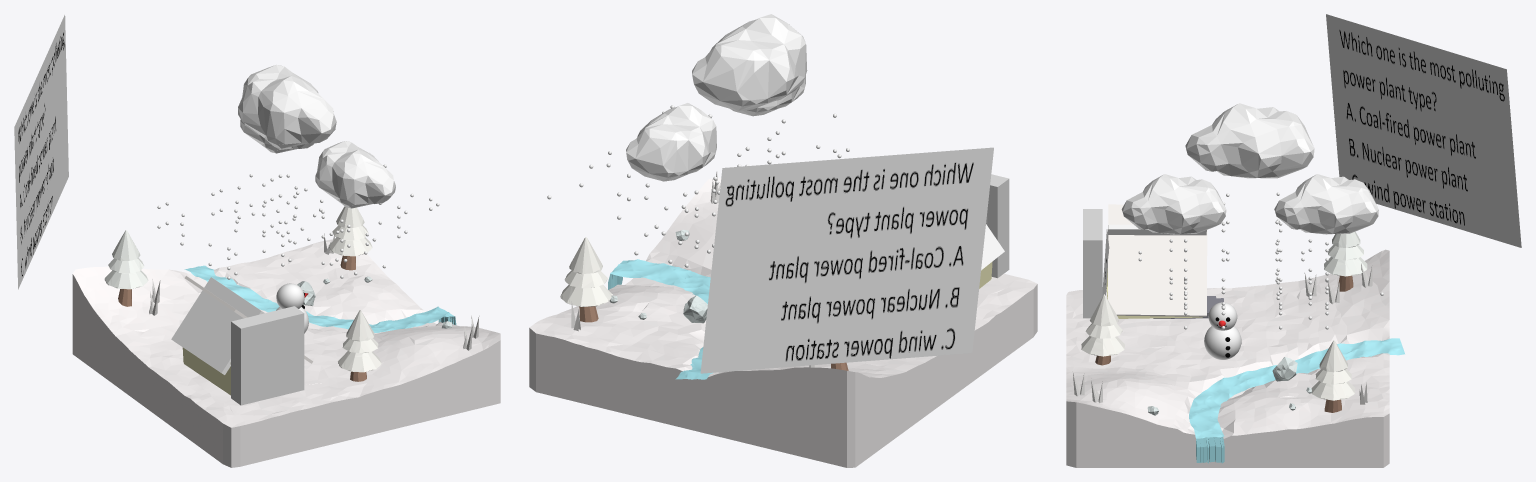
The model's file is snowQ4.glb.
3 renders of one model, left to right at view 1: azimuth 30°, elevation 25°; view 2: azimuth 150°, elevation 25°; view 3: azimuth 270°, elevation 25°, orthographic. The views are drawn at different scales.
Parts seen in each view (by area): view 1: terrain, pPlane2, Cube, cloud, house:pCube6, pPlatonic1, water, house:pCube4, pCylinder1, trees:pCylinder8, trees:pCylinder1, pSphere117 (+3 smaller); view 2: pPlane2, terrain, cloud, clouds:pPlatonic1, water, Cube, trees:pCylinder1, trees:pCylinder4, pPlatonic1, trees:pCylinder3, house:pCube6, stone:pPlatonic2; view 3: terrain, pPlane2, house:pCube5, cloud, pPlatonic1, clouds:pPlatonic1, water, Cube, pSphere116, pCylinder1, trees:pCylinder1, trees:pCylinder8 (+4 smaller).
Part boxes in pixels (x1,y1,x2,y2): terrain: (72,239,500,467); pPlane2: (14,15,68,289); Cube: (231,306,304,405); cloud: (238,64,336,148); house:pCube6: (171,277,264,374); pPlatonic1: (315,141,395,208); water: (184,265,456,332); house:pCube4: (182,347,230,394); pCylinder1: (338,351,381,372); trees:pCylinder8: (104,270,148,289); trees:pCylinder1: (328,237,372,256); pSphere117: (276,283,304,308); pPlane2: (700,147,993,373); terrain: (529,178,1037,467); cloud: (692,14,807,110); clouds:pPlatonic1: (626,103,716,181); water: (608,259,712,379); Cube: (987,174,1009,278); trees:pCylinder1: (560,284,612,306); trees:pCylinder4: (569,237,602,274); pPlatonic1: (730,75,805,116); trees:pCylinder3: (564,270,607,288); house:pCube6: (981,224,1004,270); stone:pPlatonic2: (683,295,707,323); terrain: (1066,249,1389,467); pPlane2: (1326,14,1521,247); house:pCube5: (1108,204,1207,316); cloud: (1185,103,1314,178); pPlatonic1: (1121,174,1226,234); clouds:pPlatonic1: (1274,174,1378,234); water: (1189,338,1404,463); Cube: (1083,209,1102,318); pSphere116: (1204,326,1241,359); pCylinder1: (1081,336,1124,356); trees:pCylinder1: (1311,381,1355,400); trees:pCylinder8: (1324,257,1367,276).
Bounding box in the file's own units: 0.4613 × 0.3485 × 0.4738.
28 materials, 2 textured.
